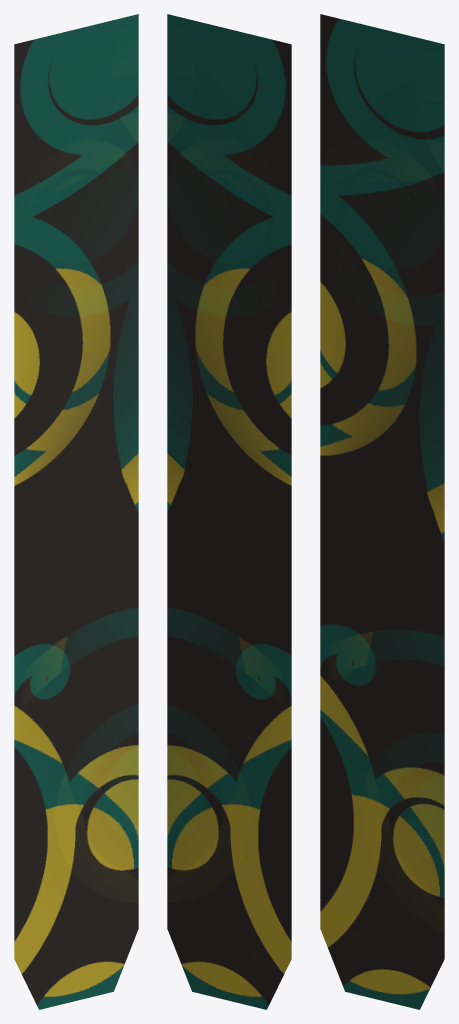
File: Door_Cloth.fbx
The picture shows the model from 3 angles, left to right: view 1: azimuth 30°, elevation 25°; view 2: azimuth 150°, elevation 25°; view 3: azimuth 330°, elevation 25°; orthographic projection.
Parts seen in each view (by area): view 1: door cloth; view 2: door cloth; view 3: door cloth.
Boxes of the visible parts, bbox=[...] form: door cloth: bbox=[14, 14, 138, 1009]; door cloth: bbox=[167, 14, 291, 1009]; door cloth: bbox=[320, 14, 444, 1009].
Bounding box in the file's own units: 52.63 × 392 × 6.39e-05.
